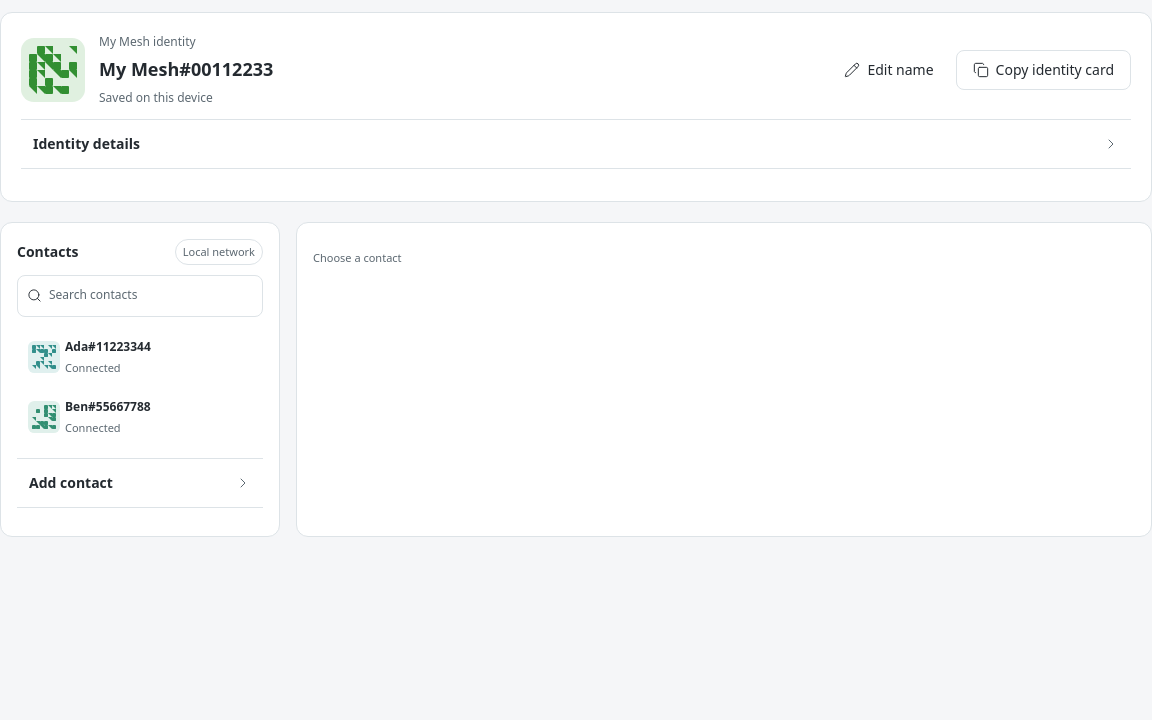
Test: advances the global inbox cursor across other contacts and clears old runtime history on generation reset
This screenshot has width=1152, height=720.
Click the button "Ada#11223344 Connected" at [140, 357], box [17,327,263,386]
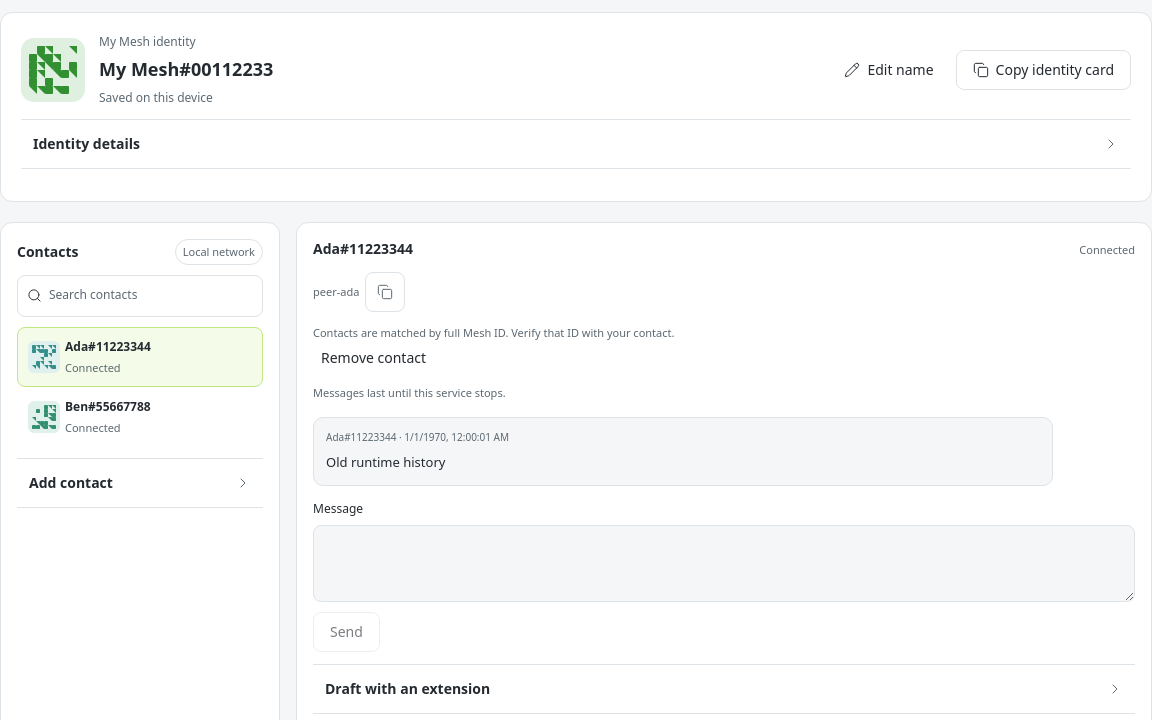
Expected: the text "Old runtime history" is shown, [326,453,445,471]
Type "Unsent across runtime restart" into the text box labelled "Message" at [724, 564], box [313,525,1135,602]
Wait 6000 ms
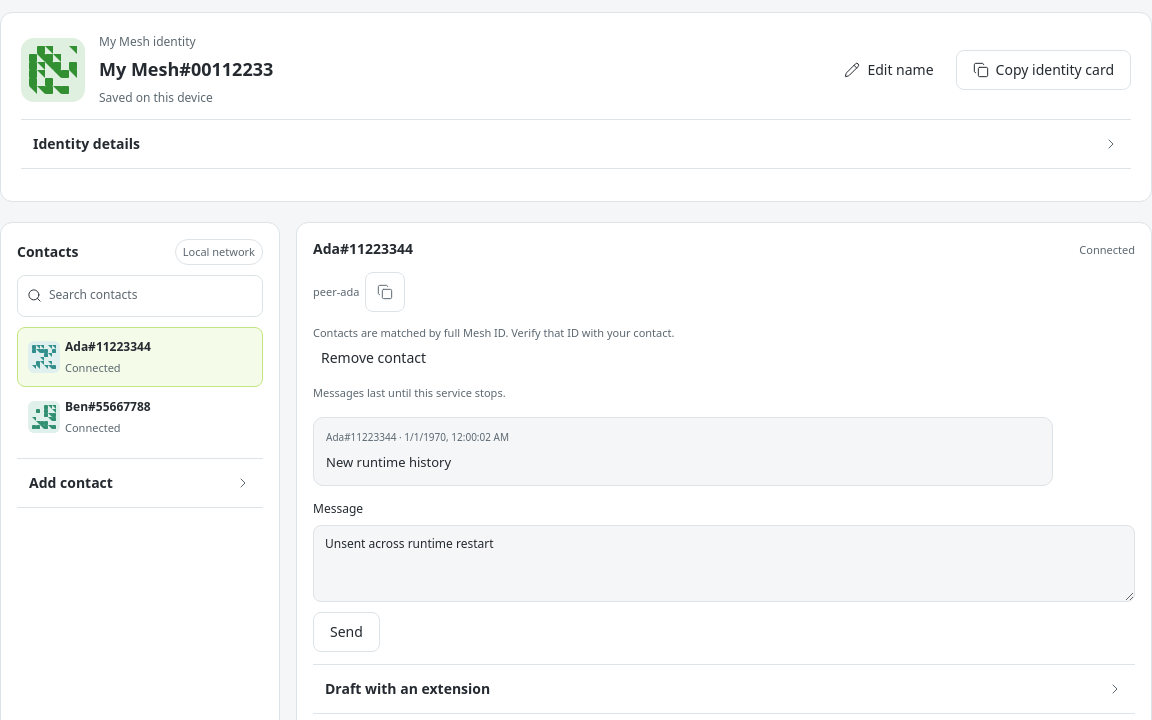
Expected: the text "Old runtime history" is gone
Expected: the text "New runtime history" is shown, [326,453,451,471]
